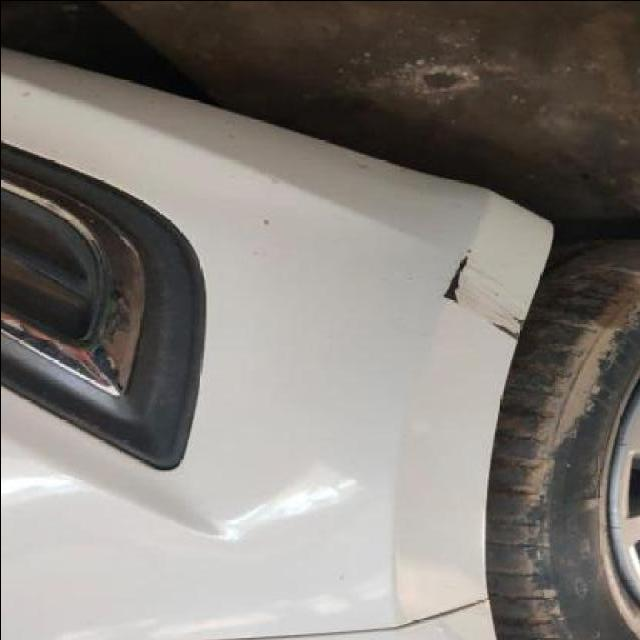front-bumper-dent: (0, 153, 551, 602)
